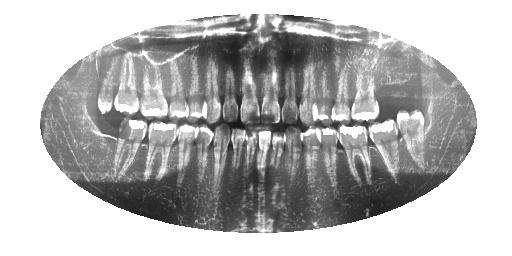i10healthy: (226, 125, 248, 175)
i11decay: (210, 118, 236, 202)
i12healthy: (189, 121, 217, 190)
i13healthy: (171, 118, 199, 194)
i14heallthy: (142, 117, 179, 185)
i15healthy: (112, 114, 150, 189)
i16loss: (92, 116, 121, 179)
i1healthy: (390, 105, 429, 167)
i2healthy: (367, 116, 408, 183)
i3healthy: (334, 122, 380, 188)
i4healthy: (318, 125, 346, 191)
i5healthy: (298, 124, 324, 191)
i6decay: (282, 123, 305, 187)
i7healthy: (269, 128, 290, 188)
i8healthy: (253, 127, 276, 186)
i9healthy: (240, 127, 261, 189)
u10decay: (219, 50, 242, 125)
u11healthy: (199, 51, 223, 125)
u12healthy: (182, 53, 208, 125)
u13healthy: (158, 54, 194, 121)
u14healthy: (135, 58, 171, 118)
u15healthy: (112, 48, 142, 117)
u16healthy: (95, 53, 123, 118)
u1loss: (395, 53, 420, 106)
u2loss: (374, 62, 397, 115)
u3healthy: (345, 53, 384, 121)
u4healthy: (327, 52, 352, 122)
u5decay: (316, 52, 336, 122)
u6healthy: (297, 56, 318, 127)
u7decay: (278, 49, 304, 130)
u8decay: (257, 42, 285, 128)
u9decay: (232, 38, 266, 125)
